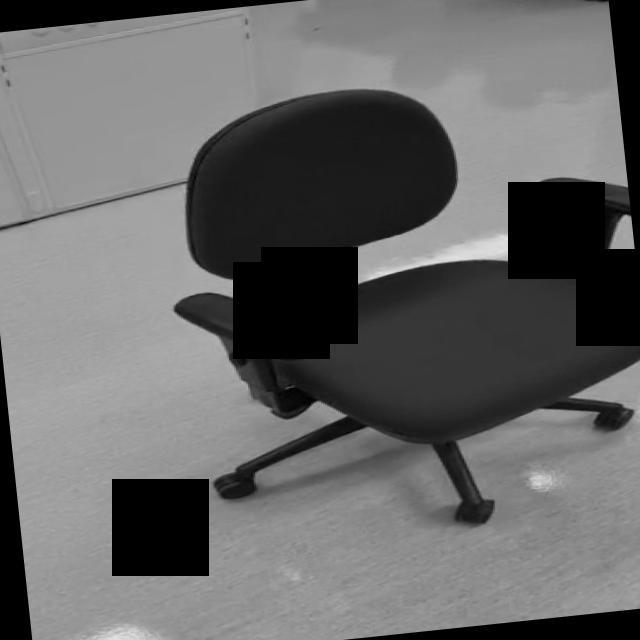chair: (153, 60, 640, 553)
